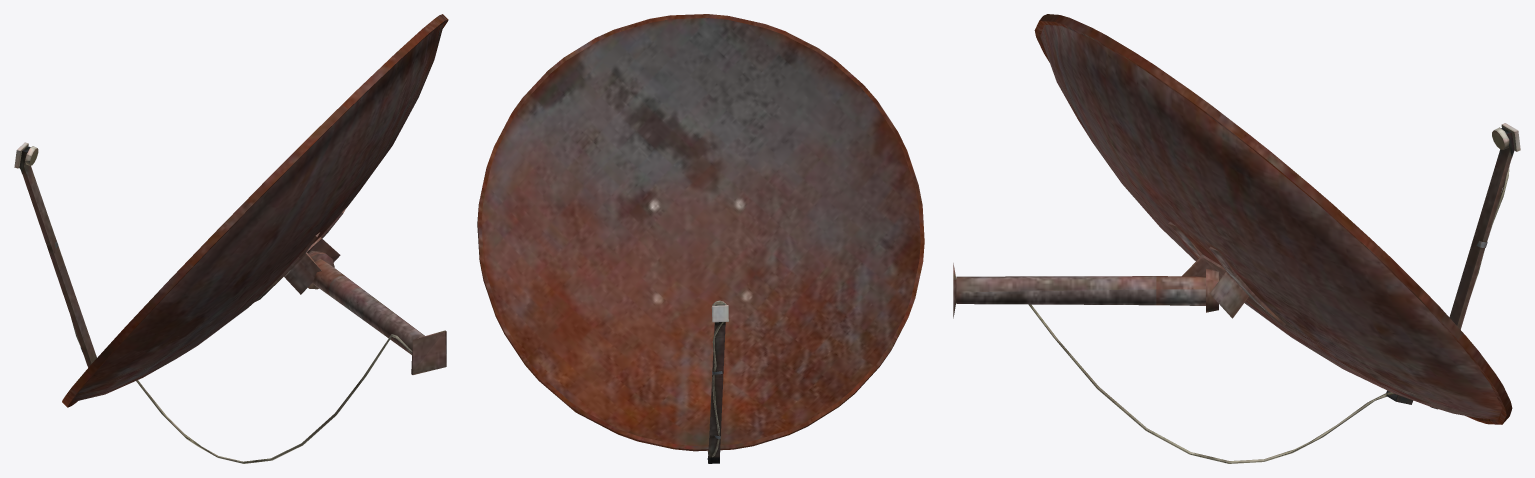
Rendered from satellite_dish.glb.
3 views of the same model, side by side, from view 1: azimuth 30°, elevation 25°; view 2: azimuth 150°, elevation 25°; view 3: azimuth 270°, elevation 25° (orthographic). The views are drawn at different scales.
Visible parts, largest first — view 1: satellite_dish; view 2: satellite_dish; view 3: satellite_dish.
Boxes of the visible parts, box(x1,y1,x2,y2) form: satellite_dish: box(14, 14, 448, 463); satellite_dish: box(477, 14, 924, 463); satellite_dish: box(953, 14, 1520, 463).
Bounding box in the file's own units: 0.8755 × 0.8499 × 0.9.
Materials: 1 (1 with a texture image).
